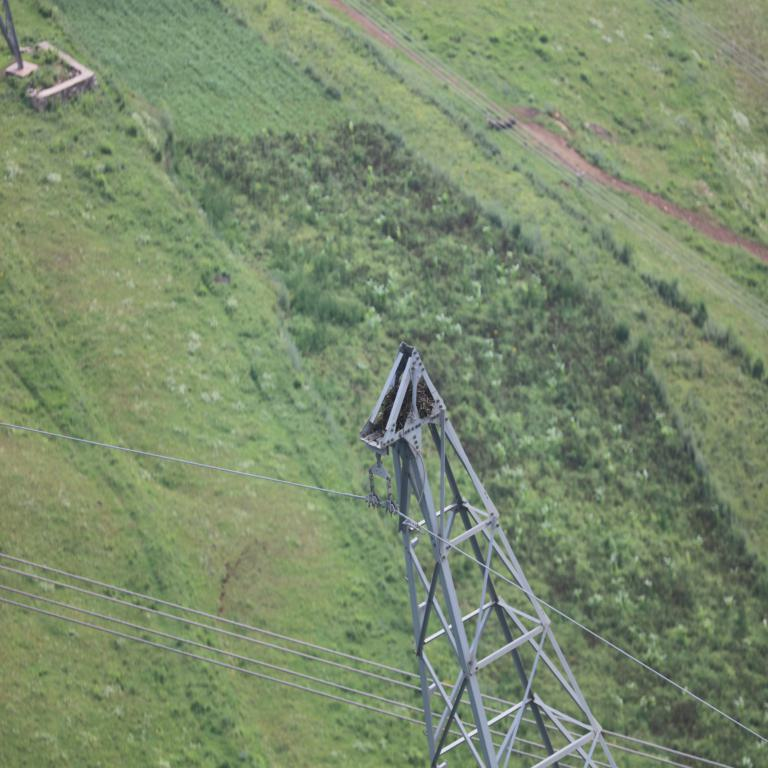nest: (383, 384, 438, 429)
